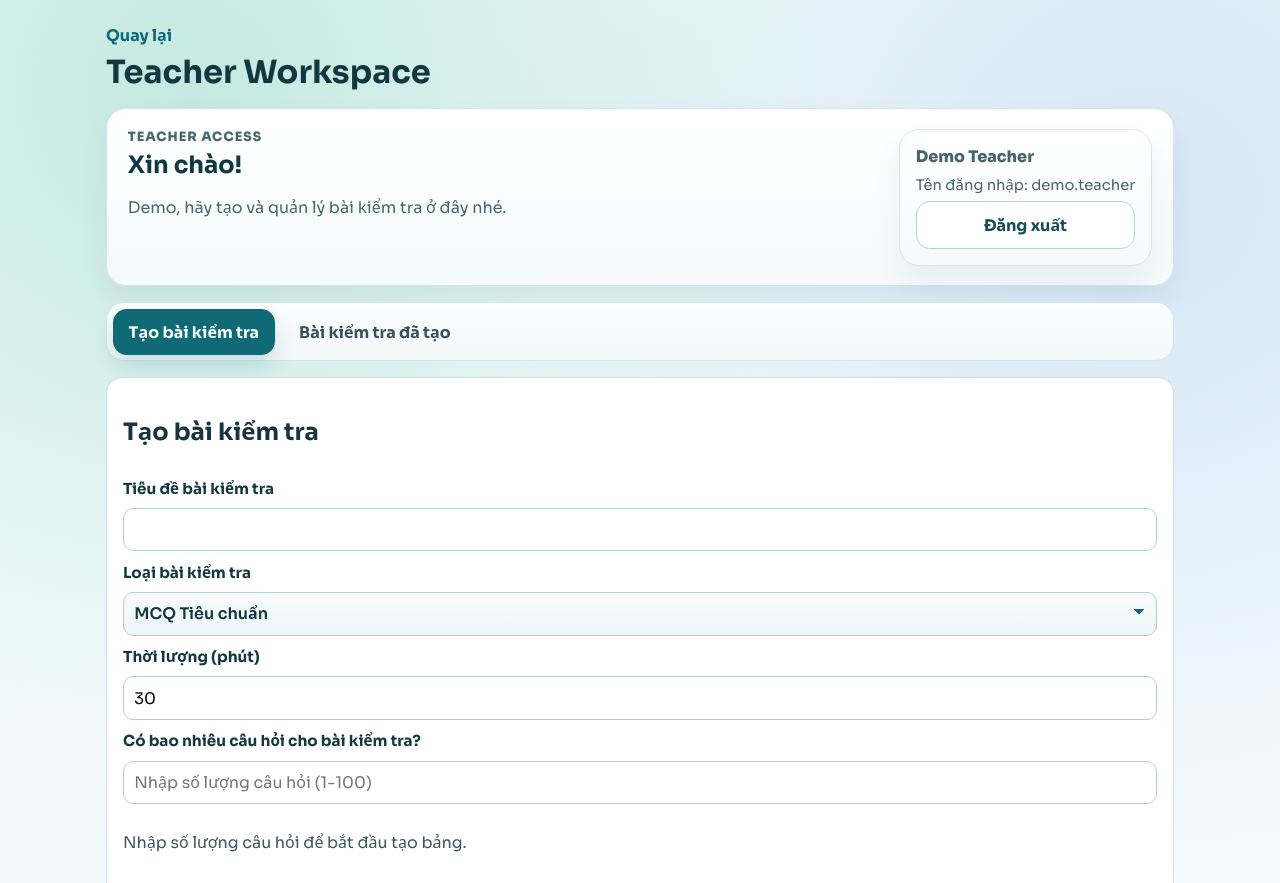
it: TeacherPageComponent › deletes a selected test after confirmation
Click the tab with id "created-tab".
click(375, 332)  # box [283,309,467,355]
(page scrolled)
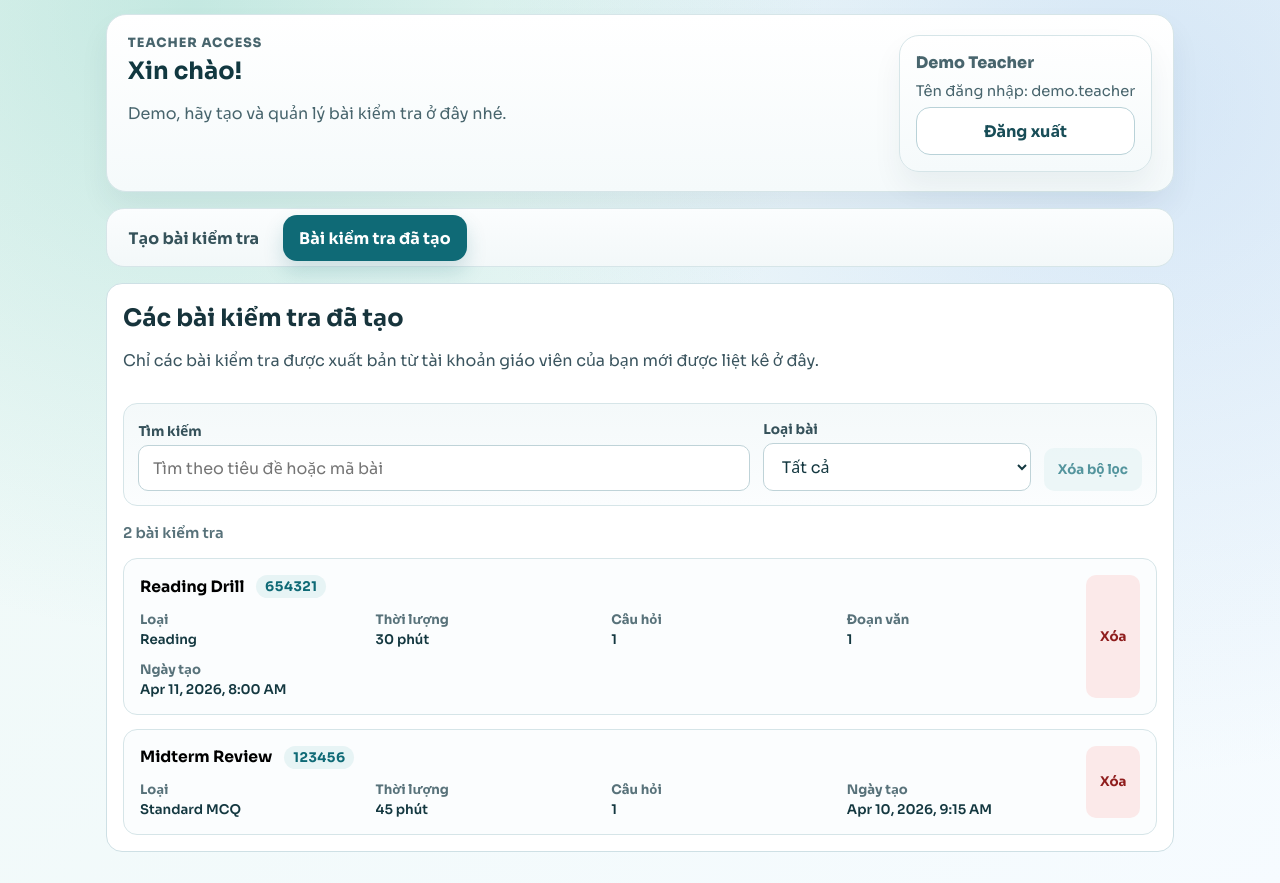
Click the button with aria-label "Delete test 123456".
click(1113, 782)  # box [1086,746,1140,818]
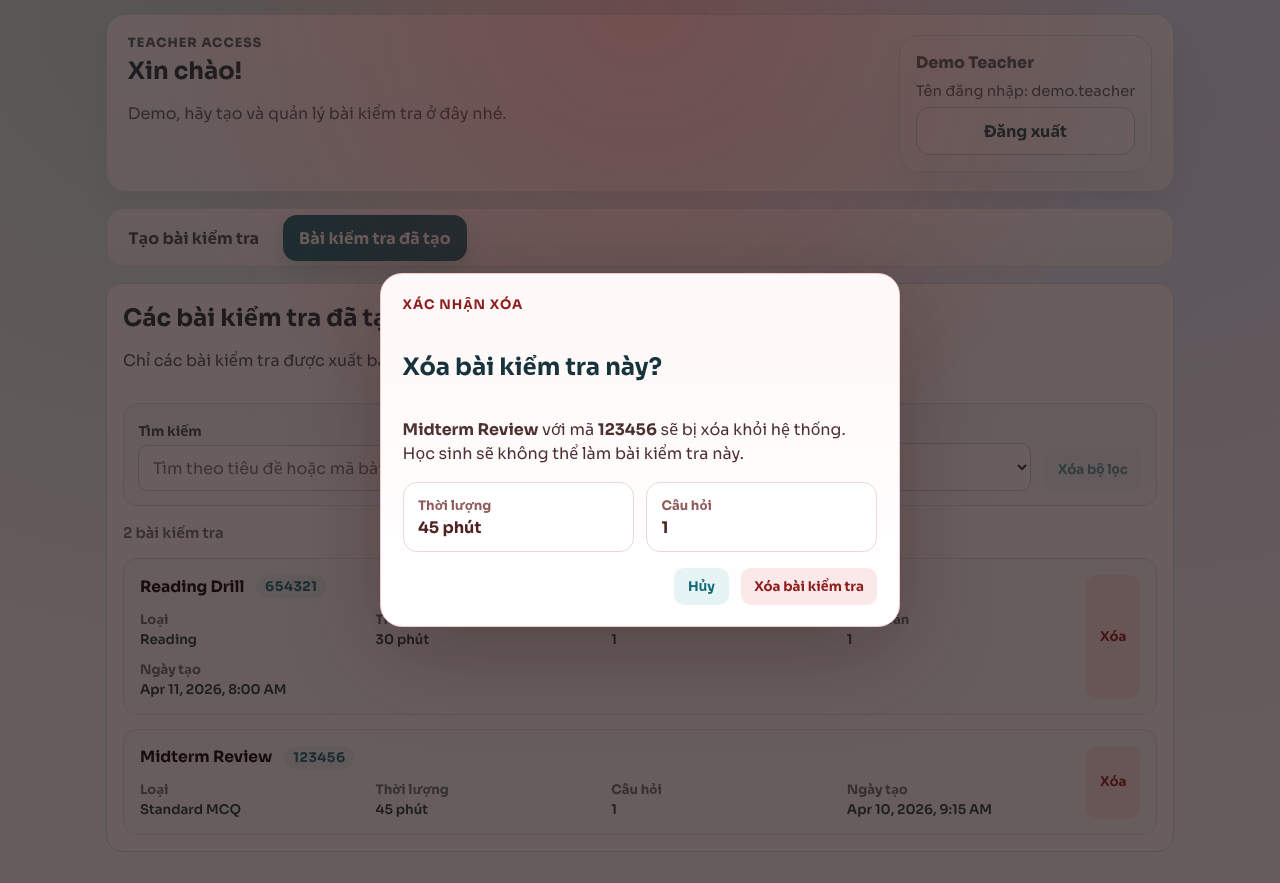
Click the button with class "danger" showing "Xóa bài kiểm tra".
click(809, 586)  # box [740,568,877,605]
(page scrolled)
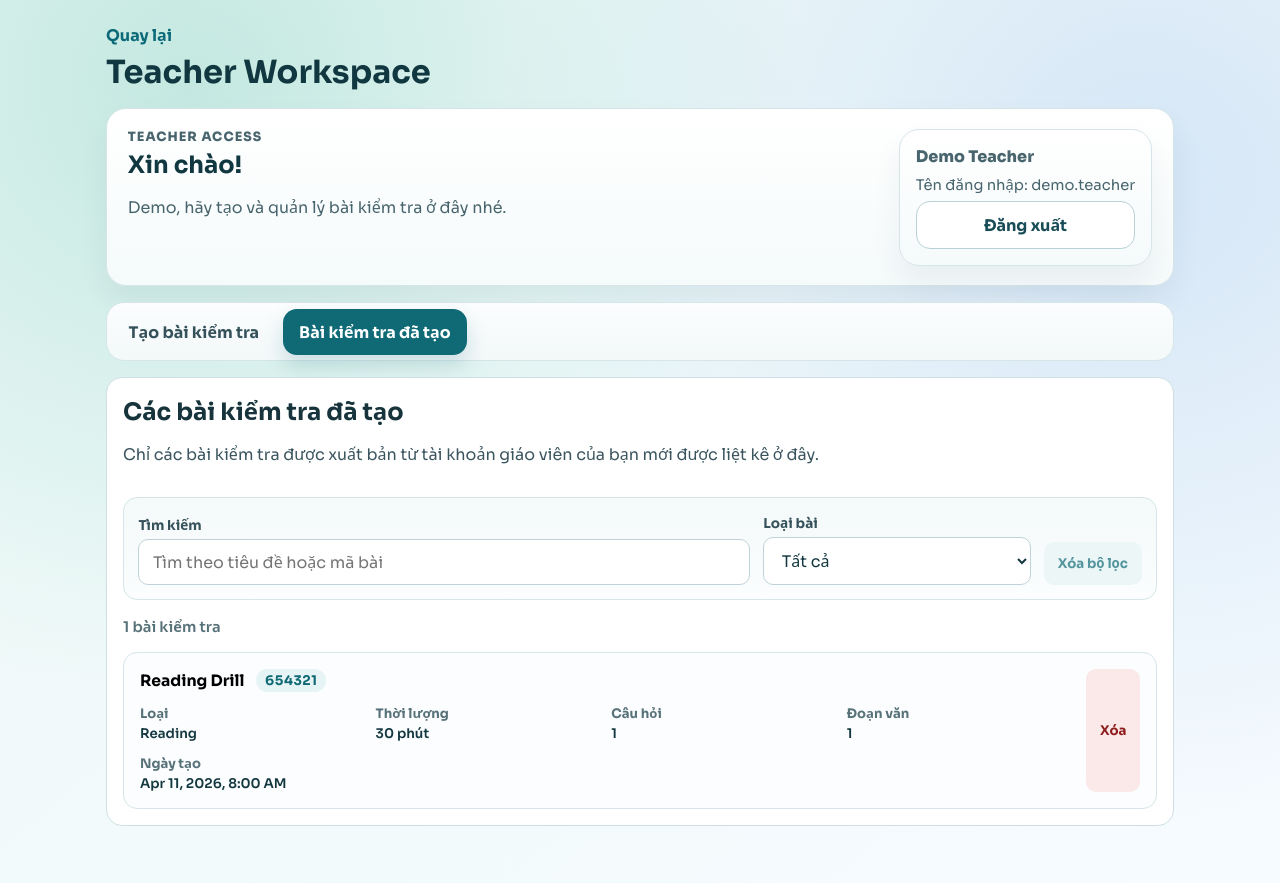
Expected: the text "Midterm Review" is gone
Expected: the dialog with class "confirm-card" is gone
